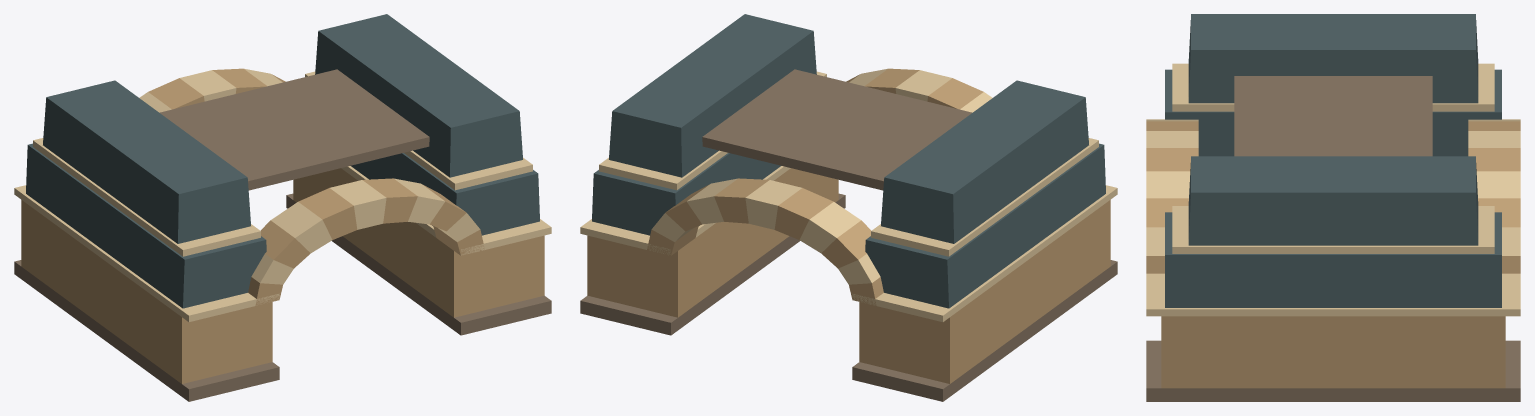
Rendered from kurukshetra-architecture.glb.
3 renders of one model, left to right at view 1: azimuth 30°, elevation 25°; view 2: azimuth 150°, elevation 25°; view 3: azimuth 270°, elevation 25°, orthographic. The views are drawn at different scales.
Parts seen in each view (by area): view 1: Bastion crown -1.1, Watch gallery, Bastion crown 1.1, Archive pier -1, Bastion crown -1.0, Archive pier 1, Bastion crown 1.0, Gate plinth -1, Gate plinth 1, Bastion cornice -1.0, Bastion cornice -1.1, Arch voussoir -1.7 (+15 smaller); view 2: Bastion crown -1.1, Watch gallery, Bastion crown 1.1, Archive pier -1, Bastion crown -1.0, Archive pier 1, Bastion crown 1.0, Gate plinth -1, Gate plinth 1, Bastion cornice -1.0, Bastion cornice -1.1, Arch voussoir 1.7 (+15 smaller); view 3: Bastion crown 1.1, Archive pier 1, Bastion crown -1.1, Bastion crown 1.0, Watch gallery, Gate plinth 1, Bastion cornice 1.0, Bastion crown -1.0, Bastion cornice 1.1, Bastion cornice -1.1, Arch voussoir -1.4, Arch voussoir 1.4 (+12 smaller).
Boxes of the visible parts, box(x1,y1,x2,y2) form: Bastion crown -1.1: box(43, 80, 250, 243); Watch gallery: box(160, 69, 429, 190); Bastion crown 1.1: box(315, 14, 522, 177); Archive pier -1: box(21, 200, 272, 383); Bastion crown -1.0: box(26, 143, 266, 308); Archive pier 1: box(293, 168, 544, 317); Bastion crown 1.0: box(350, 153, 539, 235); Gate plinth -1: box(14, 260, 279, 401); Gate plinth 1: box(286, 193, 551, 335); Bastion cornice -1.0: box(14, 185, 279, 321); Bastion cornice -1.1: box(33, 138, 260, 256); Arch voussoir -1.7: box(298, 188, 357, 239); Bastion crown -1.1: box(881, 80, 1088, 243); Watch gallery: box(702, 69, 971, 190); Bastion crown 1.1: box(609, 14, 816, 177); Archive pier -1: box(859, 200, 1110, 383); Bastion crown -1.0: box(865, 143, 1105, 308); Archive pier 1: box(587, 168, 838, 317); Bastion crown 1.0: box(592, 153, 781, 235); Gate plinth -1: box(852, 260, 1117, 401); Gate plinth 1: box(580, 193, 845, 335); Bastion cornice -1.0: box(852, 185, 1117, 321); Bastion cornice -1.1: box(871, 138, 1098, 256); Arch voussoir 1.7: box(774, 188, 833, 239); Bastion crown 1.1: box(1188, 156, 1478, 245); Archive pier 1: box(1161, 316, 1505, 388); Bastion crown -1.1: box(1188, 14, 1478, 103); Bastion crown 1.0: box(1165, 212, 1501, 307); Watch gallery: box(1234, 76, 1432, 156); Gate plinth 1: box(1146, 340, 1520, 401); Bastion cornice 1.0: box(1146, 273, 1520, 316); Bastion crown -1.0: box(1165, 69, 1501, 156); Bastion cornice 1.1: box(1172, 206, 1494, 253); Bastion cornice -1.1: box(1172, 63, 1494, 111); Arch voussoir -1.4: box(1146, 171, 1190, 198); Arch voussoir 1.4: box(1476, 171, 1520, 198).
Bounding box in the file's own units: 12 × 6 × 10.
